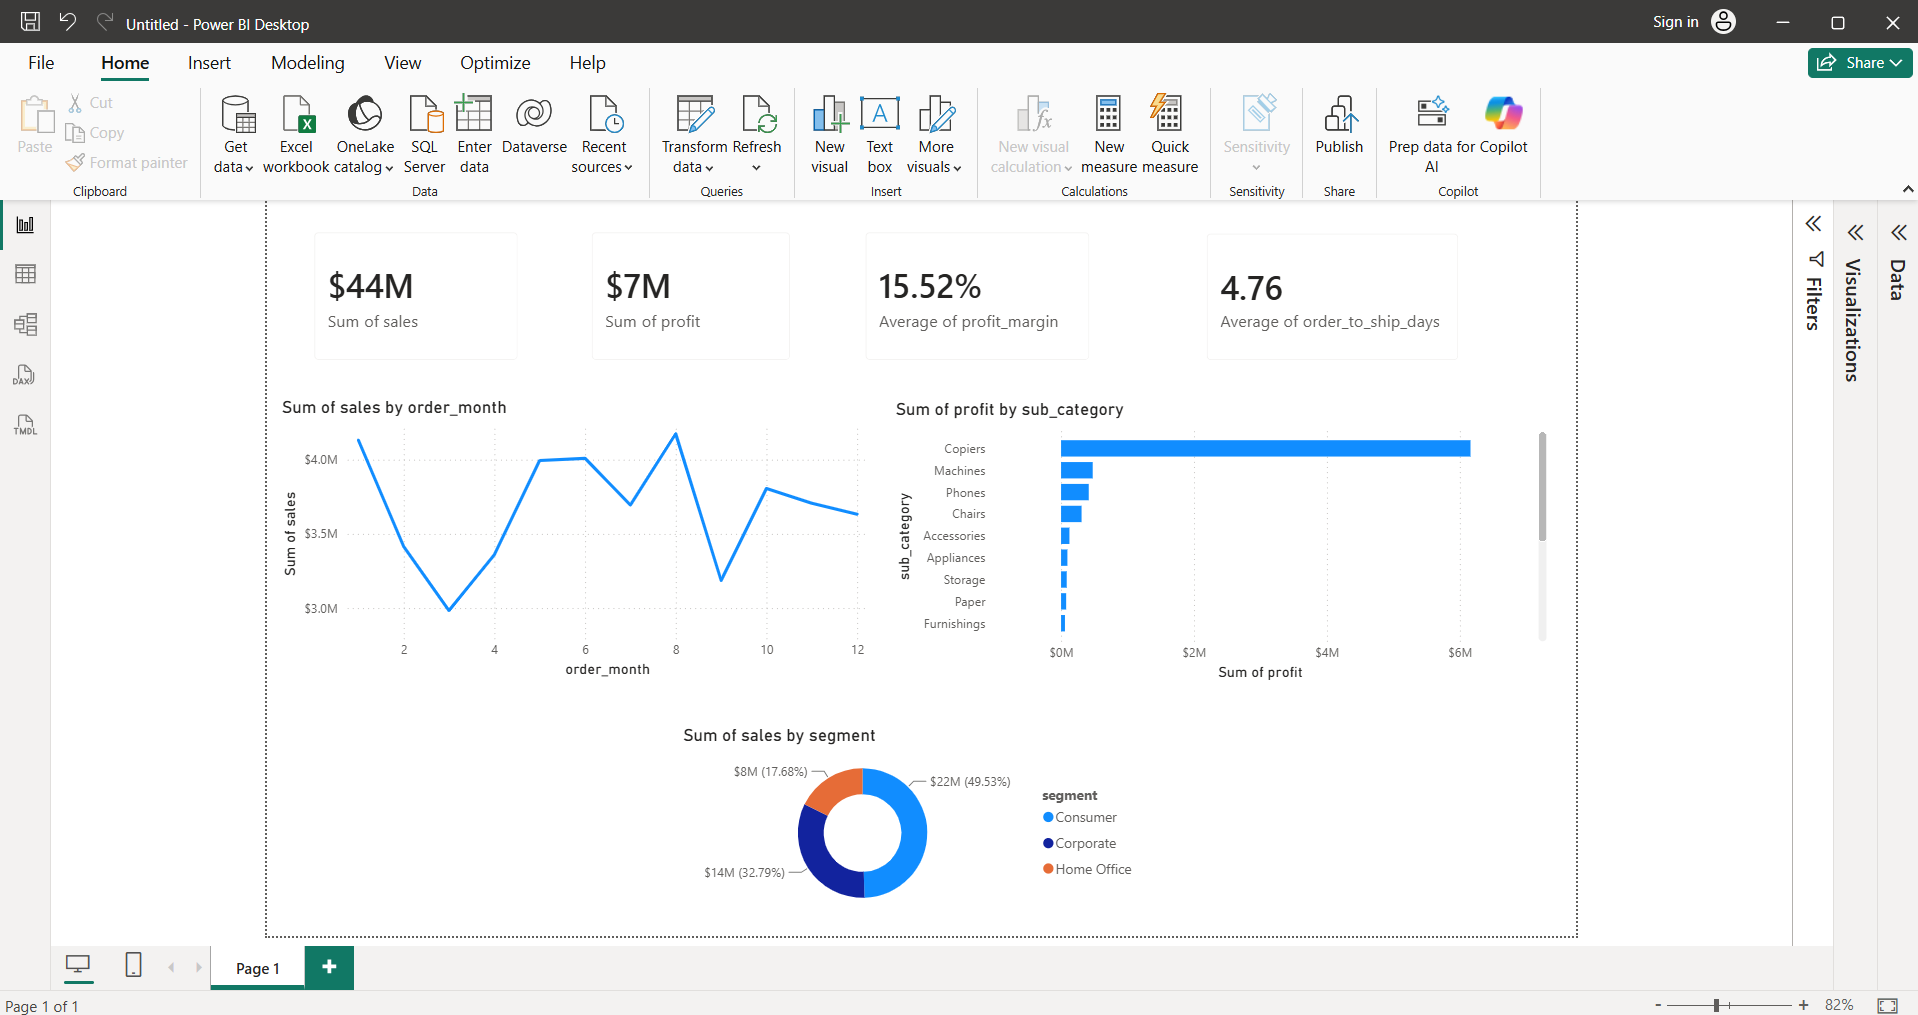

The page's visual inventory and layout, read from the dashboard file:
{"tool":"powerbi","page":{"name":"Page 1","canvas":[1280,720],"ordinal":0},"visuals":[{"type":"cardVisual","fields":{"Data":["Sum(sales.sales)"]},"box":[29.6,14.8,233.3,159.3],"z":0},{"type":"cardVisual","fields":{"Data":["Sum(sales.profit)"]},"box":[301.2,14.8,228.4,159.3],"z":1},{"type":"cardVisual","fields":{"Data":["Avg(sales.profit_margin)"]},"box":[569.1,14.8,253.1,159.3],"z":2},{"type":"cardVisual","fields":{"Data":["Avg(sales.order_to_ship_days)"]},"box":[902.5,16,280.2,158],"z":3},{"type":"lineChart","fields":{"Category":["sales.order_month"],"Y":["Sum(sales.sales)"]},"box":[9.9,192.6,582.7,280.2],"z":4},{"type":"clusteredBarChart","fields":{"Y":["Sum(sales.profit)"],"Category":["sales.sub_category"]},"box":[609.9,193.8,646.9,280.2],"z":5},{"type":"donutChart","fields":{"Category":["sales.segment"],"Y":["Sum(sales.sales)"]},"box":[402.5,513.6,458,192.6],"z":6}]}

Visuals, with their boxes on the page's 1280x720 design canvas (x1, y1, x2, y2). These are canvas units, not pixel positions in the 1918x1015 screenshot, which may show the page scaled, cropped or inside an application window:
cardVisual - Sum(sales.sales): detection(30, 15, 263, 174)
cardVisual - Sum(sales.profit): detection(301, 15, 530, 174)
cardVisual - Avg(sales.profit_margin): detection(569, 15, 822, 174)
cardVisual - Avg(sales.order_to_ship_days): detection(902, 16, 1183, 174)
lineChart - sales.order_month x Sum(sales.sales): detection(10, 193, 593, 473)
clusteredBarChart - Sum(sales.profit) x sales.sub_category: detection(610, 194, 1257, 474)
donutChart - sales.segment x Sum(sales.sales): detection(402, 514, 860, 706)
